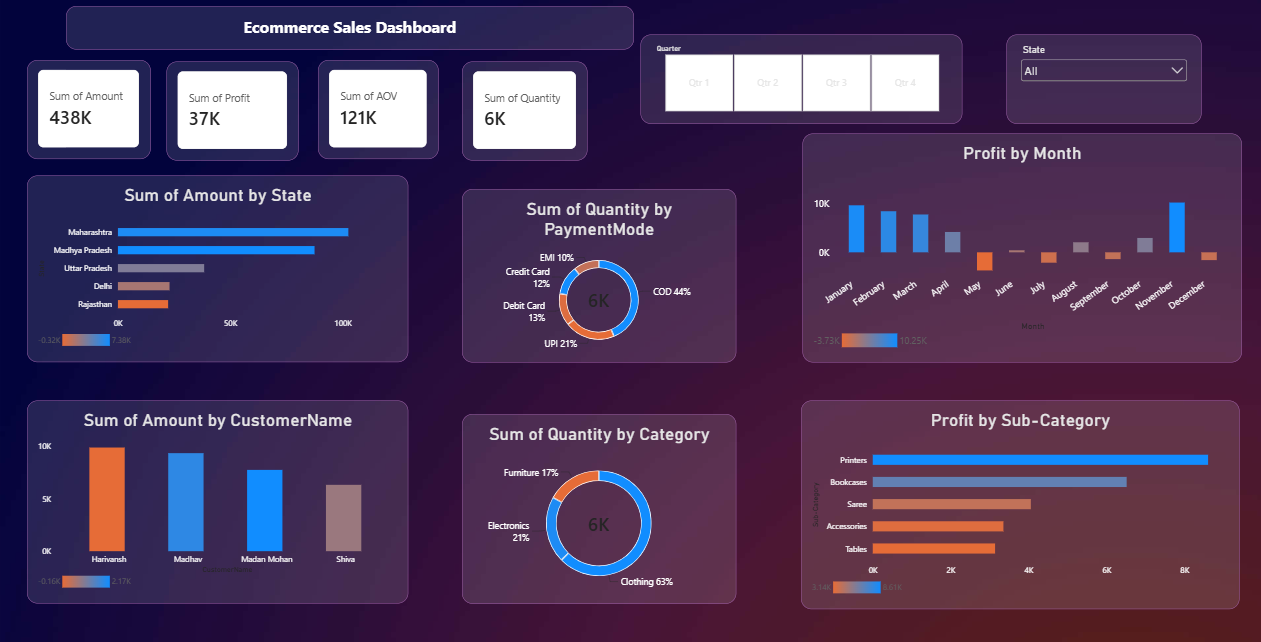

What the dashboard file says about the page in this screenshot:
{"tool":"powerbi","page":{"name":"Page 1","canvas":[1920,1080],"ordinal":0},"visuals":[{"type":"columnChart","title":"Profit by Month","fields":{"Category":["Orders.Order Date.Variation.Date Hierarchy.Month"],"Y":["Sum(Details.Profit)"]},"box":[1215,237.5,665,346.7],"z":1000},{"type":"barChart","title":"Profit by Sub-Category","fields":{"Category":["Details.Sub-Category"],"Y":["Sum(Details.Profit)"]},"box":[1212.5,642.5,664,316],"z":2000},{"type":"donutChart","fields":{"Category":["Details.Category"],"Y":["Sum(Details.Quantity)"]},"box":[700,662.5,415,287.5],"z":3000},{"type":"donutChart","fields":{"Category":["Details.PaymentMode"],"Y":["Sum(Details.Quantity)"]},"box":[700,322.5,415,262.5],"z":4000},{"type":"barChart","fields":{"Category":["Orders.State"],"Y":["Sum(Details.Amount)"]},"box":[40,302.5,577.5,282.5],"z":5000},{"type":"columnChart","fields":{"Category":["Orders.CustomerName"],"Y":["Sum(Details.Amount)"]},"box":[40,642.5,577.5,307.5],"z":6000},{"type":"cardVisual","fields":{"Data":["Sum(Details.Amount)"]},"box":[40,128,187.5,150],"z":7000},{"type":"cardVisual","fields":{"Data":["Sum(Details.Profit)"]},"box":[252,130,200,150],"z":8000},{"type":"cardVisual","fields":{"Data":["Sum(Details.Quantity)"]},"box":[700,130,190,150],"z":9000},{"type":"cardVisual","fields":{"Data":["Sum(Details.AOV)"]},"box":[482,128,182.5,150],"z":10000},{"type":"slicer","fields":{"Values":["Orders.Order Date.Variation.Date Hierarchy.Quarter"]},"box":[970,87.5,487.5,135],"z":11000},{"type":"slicer","fields":{"Values":["Orders.State"]},"box":[1525,87.5,295,135],"z":12000},{"type":"textbox","box":[100,46,860,66],"z":12001}]}

Visuals, with their boxes on the page's 1920x1080 design canvas (x1, y1, x2, y2). These are canvas units, not pixel positions in the 1261x642 screenshot, which may show the page scaled, cropped or inside an application window:
"Profit by Month" columnChart: Rect(1215, 238, 1880, 584)
"Profit by Sub-Category" barChart: Rect(1212, 642, 1876, 958)
donutChart - Details.Category x Sum(Details.Quantity): Rect(700, 662, 1115, 950)
donutChart - Details.PaymentMode x Sum(Details.Quantity): Rect(700, 322, 1115, 585)
barChart - Orders.State x Sum(Details.Amount): Rect(40, 302, 618, 585)
columnChart - Orders.CustomerName x Sum(Details.Amount): Rect(40, 642, 618, 950)
cardVisual - Sum(Details.Amount): Rect(40, 128, 228, 278)
cardVisual - Sum(Details.Profit): Rect(252, 130, 452, 280)
cardVisual - Sum(Details.Quantity): Rect(700, 130, 890, 280)
cardVisual - Sum(Details.AOV): Rect(482, 128, 664, 278)
slicer - Orders.Order Date.Variation.Date Hierarchy.Quarter: Rect(970, 88, 1458, 222)
slicer - Orders.State: Rect(1525, 88, 1820, 222)
textbox: Rect(100, 46, 960, 112)
